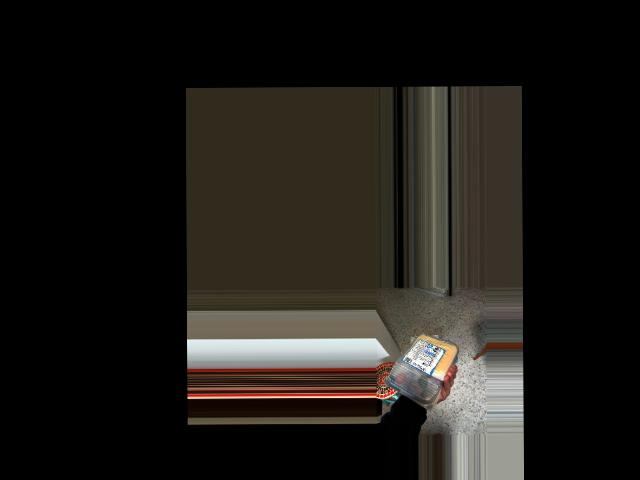cheese: (387, 331, 449, 400)
